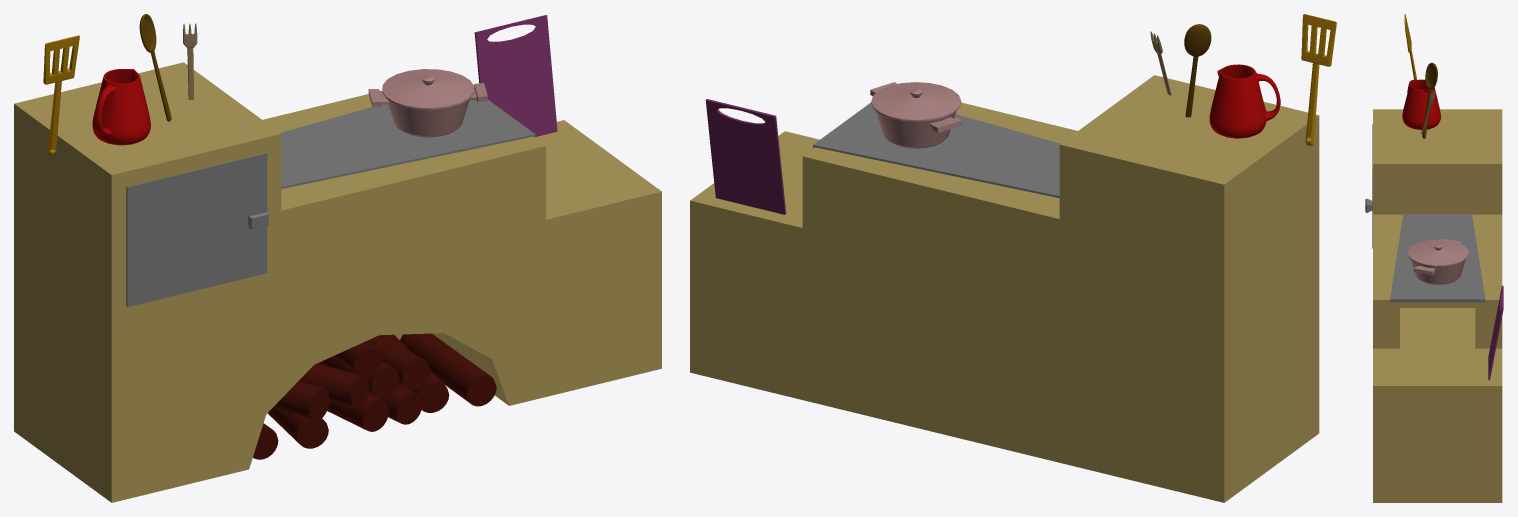
The model's file is PROP_Fogao_Lenha.fbx.
3 views of the same model, side by side, from view 1: azimuth 30°, elevation 25°; view 2: azimuth 150°, elevation 25°; view 3: azimuth 270°, elevation 25° (orthographic). The views are drawn at different scales.
Visible parts, largest first — view 1: EstruturaFogaoALenha, PortinhaFogaoLenha, PlacaFogaoLenha, tabua, Panela, jarra, lenha6, Espumadeira, lenha9, lenha11, lenha8, lenha1 (+6 smaller); view 2: EstruturaFogaoALenha, PlacaFogaoLenha, tabua, Panela, jarra, Espumadeira, Colher_Pau; view 3: EstruturaFogaoALenha, PlacaFogaoLenha, Panela, jarra, tabua, Colher_Pau, Espumadeira, PortinhaFogaoLenha.
Part boxes in pixels (bbox=[...]): EstruturaFogaoALenha: bbox=[14, 62, 661, 502]; PortinhaFogaoLenha: bbox=[126, 153, 268, 307]; PlacaFogaoLenha: bbox=[280, 99, 535, 188]; tabua: bbox=[474, 15, 557, 136]; Panela: bbox=[368, 69, 487, 137]; jarra: bbox=[92, 69, 150, 145]; lenha6: bbox=[400, 333, 496, 406]; Espumadeira: bbox=[43, 35, 79, 155]; lenha9: bbox=[299, 363, 368, 408]; lenha11: bbox=[365, 335, 429, 390]; lenha8: bbox=[273, 380, 329, 421]; lenha1: bbox=[267, 408, 328, 448]; EstruturaFogaoALenha: bbox=[690, 75, 1319, 502]; PlacaFogaoLenha: bbox=[813, 102, 1060, 197]; tabua: bbox=[705, 99, 786, 214]; Panela: bbox=[870, 82, 962, 148]; jarra: bbox=[1209, 64, 1280, 138]; Espumadeira: bbox=[1301, 14, 1336, 145]; Colher_Pau: bbox=[1184, 24, 1211, 117]; EstruturaFogaoALenha: bbox=[1373, 109, 1502, 502]; PlacaFogaoLenha: bbox=[1390, 214, 1485, 302]; Panela: bbox=[1407, 238, 1468, 284]; jarra: bbox=[1402, 79, 1440, 129]; tabua: bbox=[1488, 285, 1503, 380]; Colher_Pau: bbox=[1422, 63, 1437, 138]; Espumadeira: bbox=[1404, 14, 1417, 79]; PortinhaFogaoLenha: bbox=[1365, 124, 1372, 248].
Size of the model in its own units: 21 by 15.33 by 6.43.
